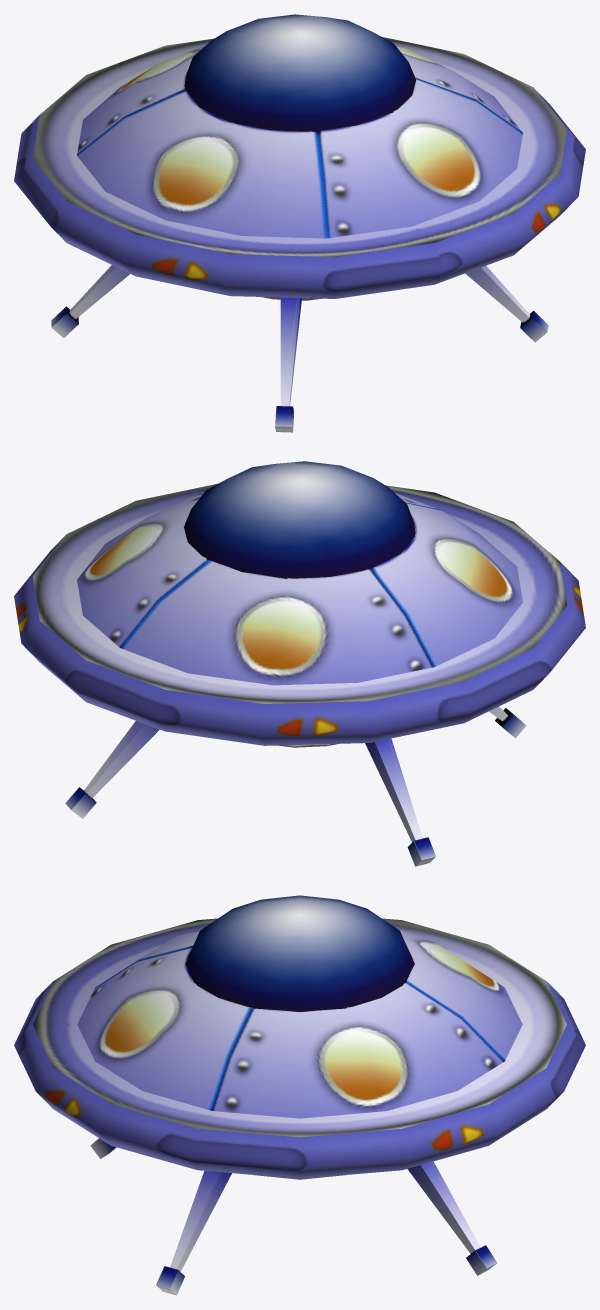
Rendered from ufo.gltf.
3 views of the same model, one above another, from view 1: azimuth 30°, elevation 25°; view 2: azimuth 150°, elevation 25°; view 3: azimuth 270°, elevation 25° (orthographic).
Visible parts, largest first — view 1: Cube; view 2: Cube; view 3: Cube.
Part boxes in pixels (x1=…): Cube: x1=14, y1=14, x2=585, y2=432; Cube: x1=14, y1=461, x2=585, y2=866; Cube: x1=14, y1=895, x2=585, y2=1295.
Size of the model in its own units: 2.12 by 1.22 by 2.12.
Materials: 1 (1 with a texture image).
